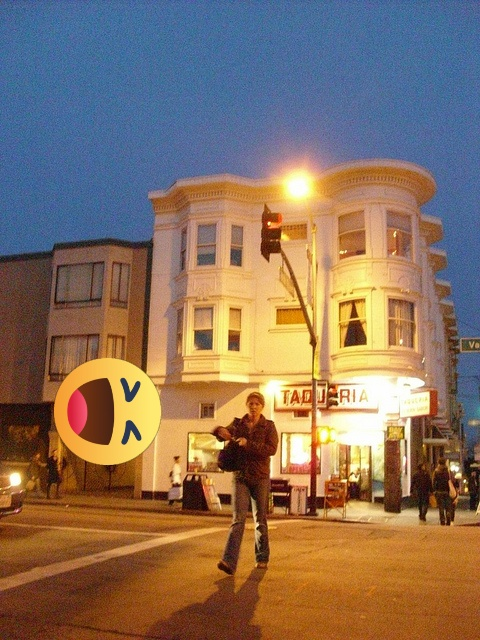haha: (54, 358, 161, 465)
